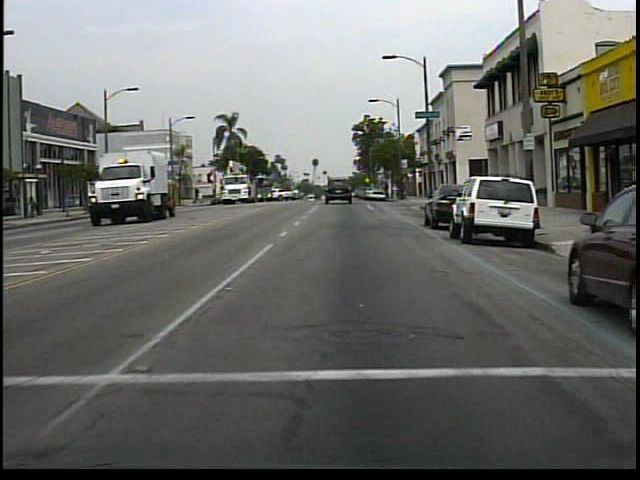person: (32, 193, 42, 220)
